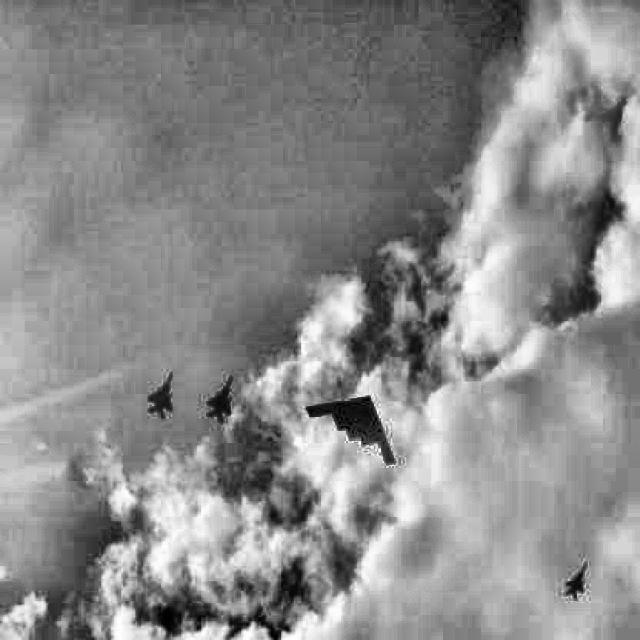B2: (306, 396, 396, 464)
F15: (207, 375, 233, 423), (149, 372, 173, 419), (564, 562, 588, 600)
